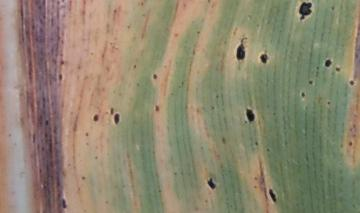tarspot: (298, 1, 312, 20), (245, 107, 256, 123), (237, 43, 246, 61), (267, 188, 277, 202), (206, 178, 217, 190), (259, 53, 269, 64), (113, 113, 121, 126), (322, 58, 332, 68), (91, 114, 100, 122), (152, 104, 161, 112), (333, 65, 341, 73), (348, 79, 356, 87), (329, 4, 336, 12), (109, 107, 115, 116), (57, 72, 63, 81), (62, 198, 67, 208), (299, 91, 306, 98), (347, 140, 354, 147), (58, 59, 65, 66), (79, 175, 87, 181), (44, 119, 50, 127), (308, 79, 314, 86), (152, 73, 158, 80), (252, 175, 258, 182), (83, 131, 89, 138), (131, 63, 138, 69), (326, 100, 332, 106), (252, 184, 258, 190), (254, 140, 259, 146), (266, 148, 271, 153)
